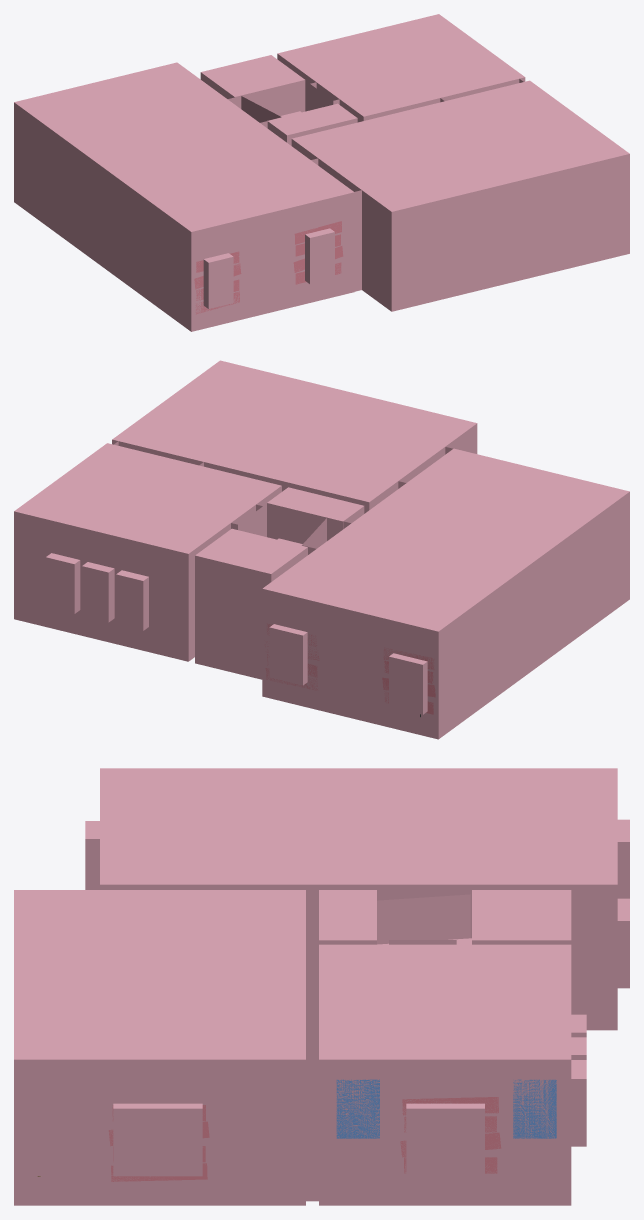
Rendered from LobbyHouse (2).fbx.
The picture shows the model from 3 angles, top to bottom: view 1: azimuth 30°, elevation 25°; view 2: azimuth 150°, elevation 25°; view 3: azimuth 270°, elevation 25°; orthographic projection. The views are drawn at different scales.
Visible parts, largest first — view 1: Plane.001, Plane, Plane.004, Plane.005, Plane.006, Plane.018, Plane.011, Plane.008, Plane.007; view 2: Plane.001, Plane, Plane.006, Plane.005, Plane.004, Plane.015, Plane.019, Plane.013, Plane.014, Plane.020, Plane.010; view 3: Plane.001, Plane.004, Plane.006, Plane, Plane.016, Plane.017, Plane.007, Plane.009, Cube.050, Cube.049, Plane.005, Cube.026.
Part boxes in pixels (x1,y1,x2,y2): Plane.001: (14,14,629,231); Plane: (14,102,354,331); Plane.004: (291,139,629,311); Plane.005: (200,72,357,145); Plane.006: (277,54,525,122); Plane.018: (208,257,233,308); Plane.011: (310,232,334,284); Plane.008: (311,158,361,291); Plane.007: (228,96,281,128); Plane.001: (14,360,629,631); Plane: (262,492,629,739); Plane.006: (14,486,281,661); Plane.005: (195,503,364,679); Plane.004: (112,423,477,513); Plane.015: (389,656,422,714); Plane.019: (269,627,302,685); Plane.013: (45,557,74,614); Plane.014: (116,574,143,630); Plane.020: (82,566,108,622); Plane.010: (231,504,262,535); Plane.001: (14,768,617,1059); Plane.004: (14,1059,305,1205); Plane.006: (319,1014,586,1205); Plane: (85,819,629,1030); Plane.016: (113,1108,202,1176); Plane.017: (406,1108,484,1176); Plane.007: (377,894,470,944); Plane.009: (306,999,318,1201); Cube.050: (336,1079,379,1138); Cube.049: (513,1079,556,1138); Plane.005: (319,938,571,944); Cube.026: (402,1097,498,1115).
Bounding box in the file's own units: 1745 × 402 × 1534.
